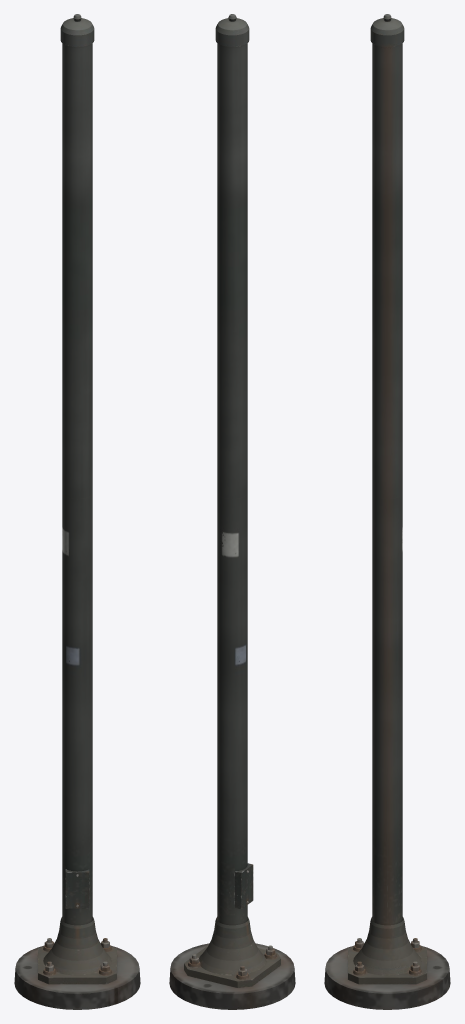
The model's file is pedestalPole-v1.glb.
3 views of the same model, side by side, from view 1: azimuth 90°, elevation 25°; view 2: azimuth 150°, elevation 25°; view 3: azimuth 270°, elevation 25° (orthographic).
Visible parts, largest first — view 1: pedestalPole-v1; view 2: pedestalPole-v1; view 3: pedestalPole-v1.
Part boxes in pixels (<box>): pedestalPole-v1: <box>14,14,140,1009</box>; pedestalPole-v1: <box>169,14,295,1009</box>; pedestalPole-v1: <box>324,14,450,1009</box>.
Size of the model in its own units: 0.48 by 4.07 by 0.48.
Materials: 1 (1 with a texture image).
